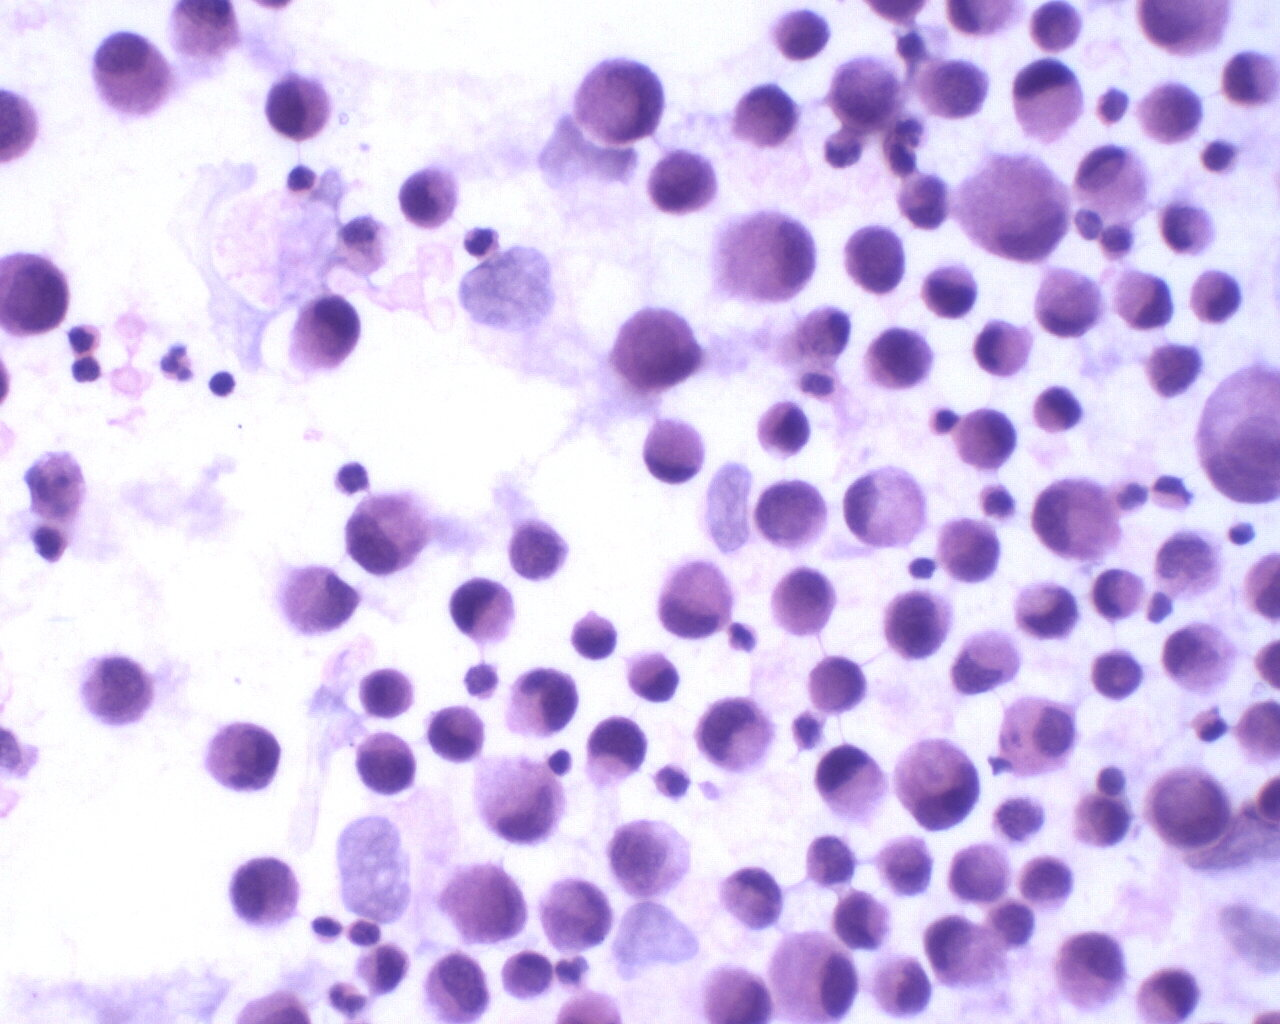ab: (571, 55, 679, 152), (1140, 765, 1239, 860), (608, 305, 706, 394), (602, 814, 696, 901), (76, 649, 159, 734), (201, 720, 286, 799), (286, 290, 365, 377), (537, 872, 616, 955), (224, 853, 308, 930), (828, 55, 909, 135), (1, 249, 70, 338), (879, 583, 953, 665), (649, 147, 727, 222), (724, 82, 804, 155), (1130, 75, 1208, 148), (864, 322, 937, 399), (755, 478, 829, 555), (839, 223, 911, 300), (419, 950, 493, 1024), (771, 564, 843, 639), (918, 51, 991, 125), (584, 711, 651, 783), (508, 516, 574, 586), (1013, 847, 1078, 917), (871, 832, 940, 898), (1066, 793, 1138, 856), (354, 731, 420, 799), (946, 838, 1010, 907), (939, 512, 998, 588), (920, 260, 983, 326), (802, 652, 868, 712), (354, 666, 419, 721), (498, 947, 559, 1003)
histo: (998, 59, 1095, 153), (844, 461, 933, 555), (637, 415, 709, 491)
lymph: (207, 363, 239, 401)
meso: (766, 928, 861, 1024), (88, 30, 180, 120), (993, 693, 1087, 781), (1072, 142, 1155, 228), (814, 742, 888, 822)
neutro: (154, 338, 197, 387)
